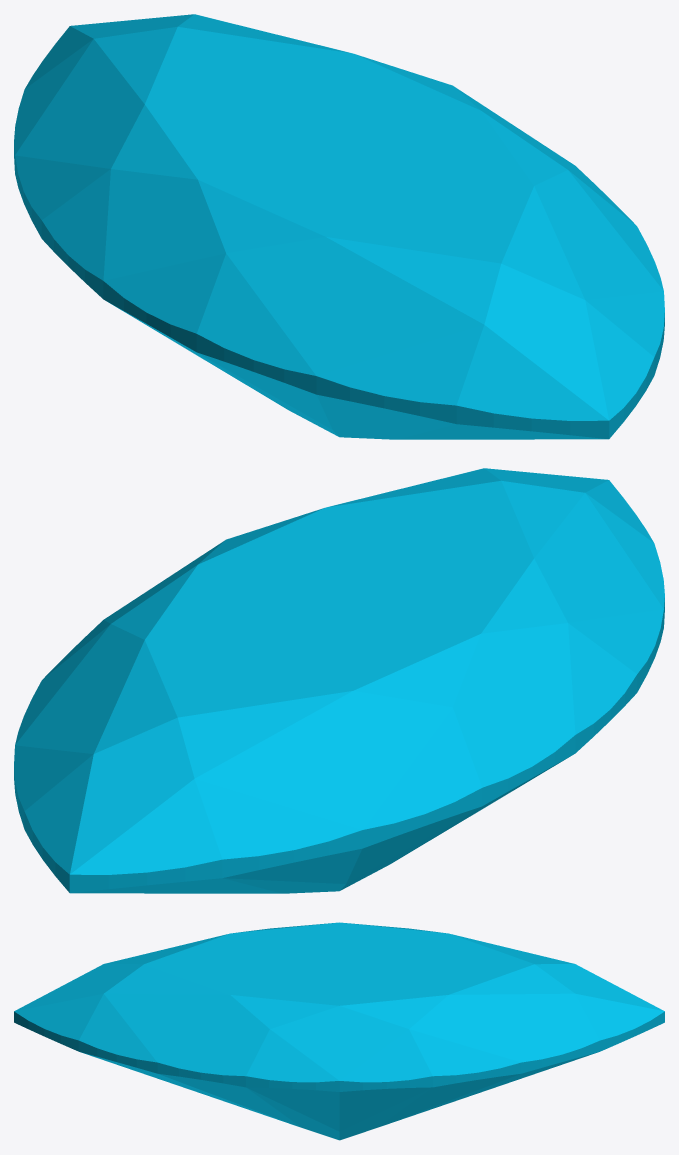
The model's file is Head_Single Halo_Marquise_1.0ct_Diamond.glb.
The picture shows the model from 3 angles, top to bottom: view 1: azimuth 30°, elevation 25°; view 2: azimuth 150°, elevation 25°; view 3: azimuth 270°, elevation 25°; orthographic projection. The views are drawn at different scales.
Bounding box in the file's own units: 0.00502 × 0.00297 × 0.00993.
